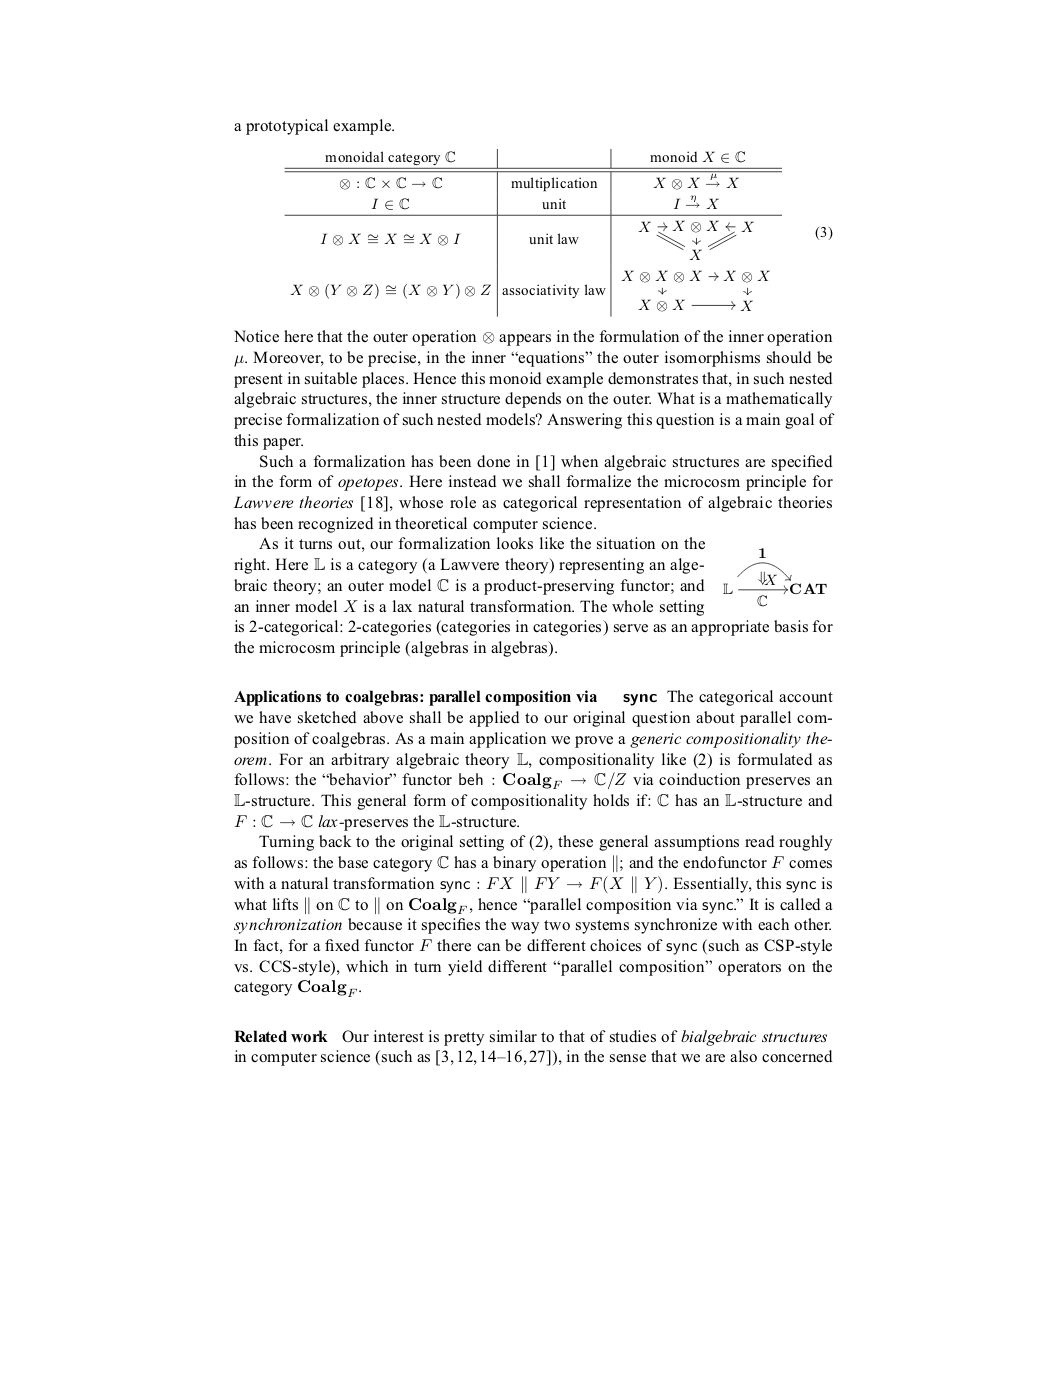Table: (284, 148, 833, 317)
figure: (723, 548, 826, 606)
